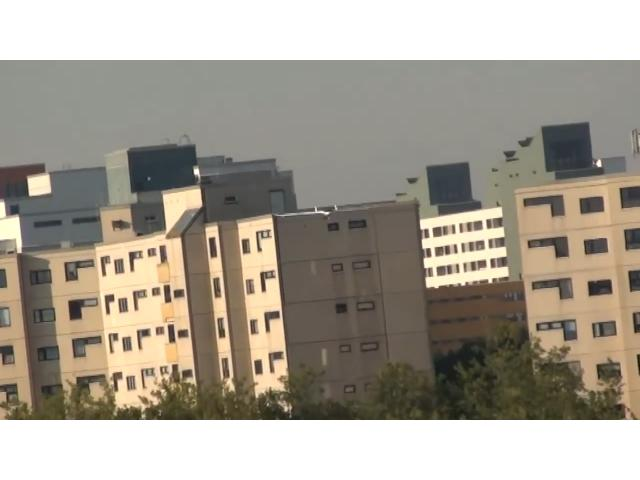Anti-Drone: (262, 190, 396, 232)
